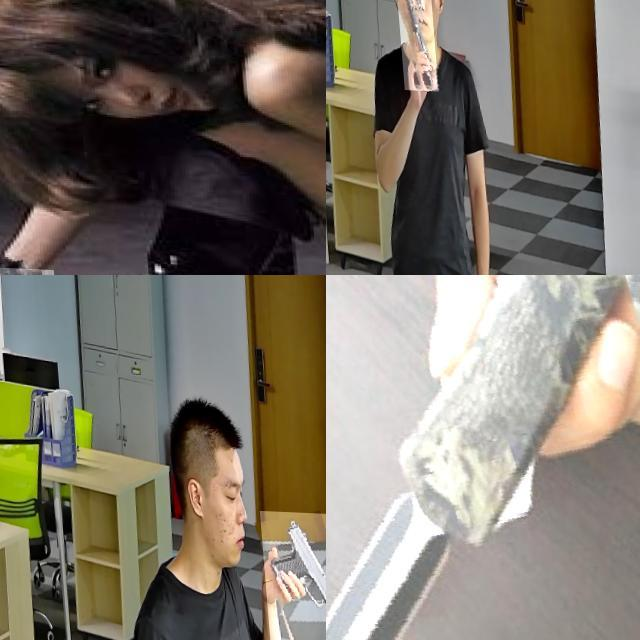-: (326, 275, 640, 640)
gun-knife-thesis - v11 Yolov5 augmented: (254, 507, 326, 640), (394, 0, 434, 88)
